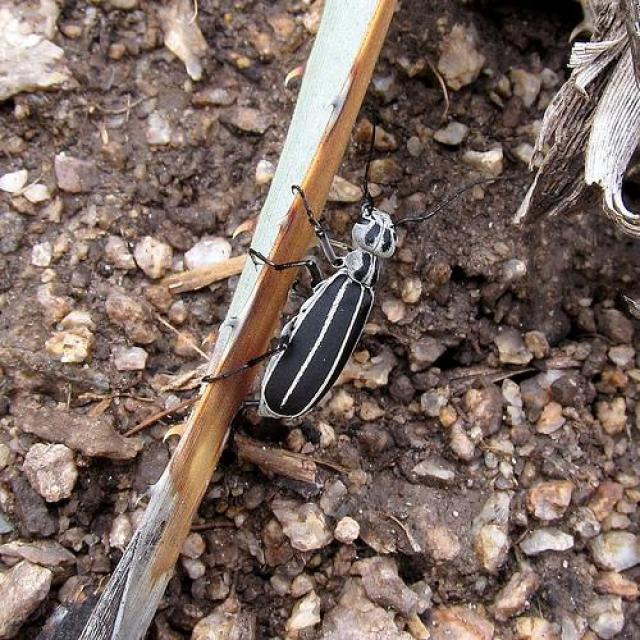BlisterBeetle-Adult-: (202, 104, 446, 432)
